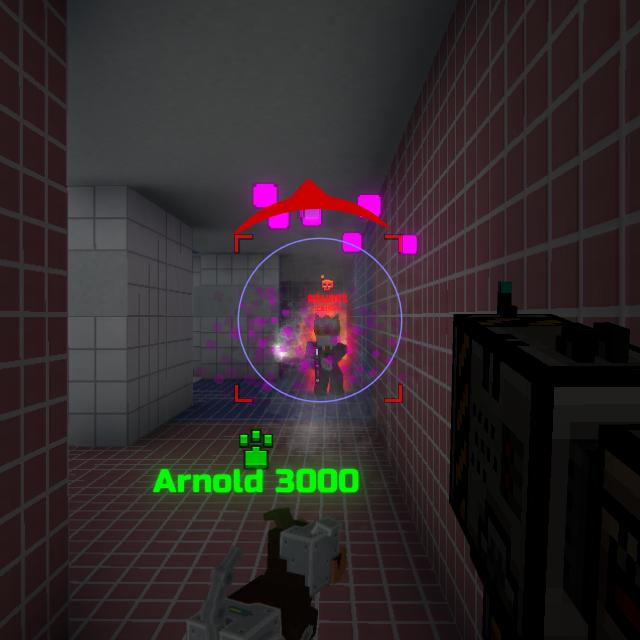Enemy: (301, 315, 346, 396)
